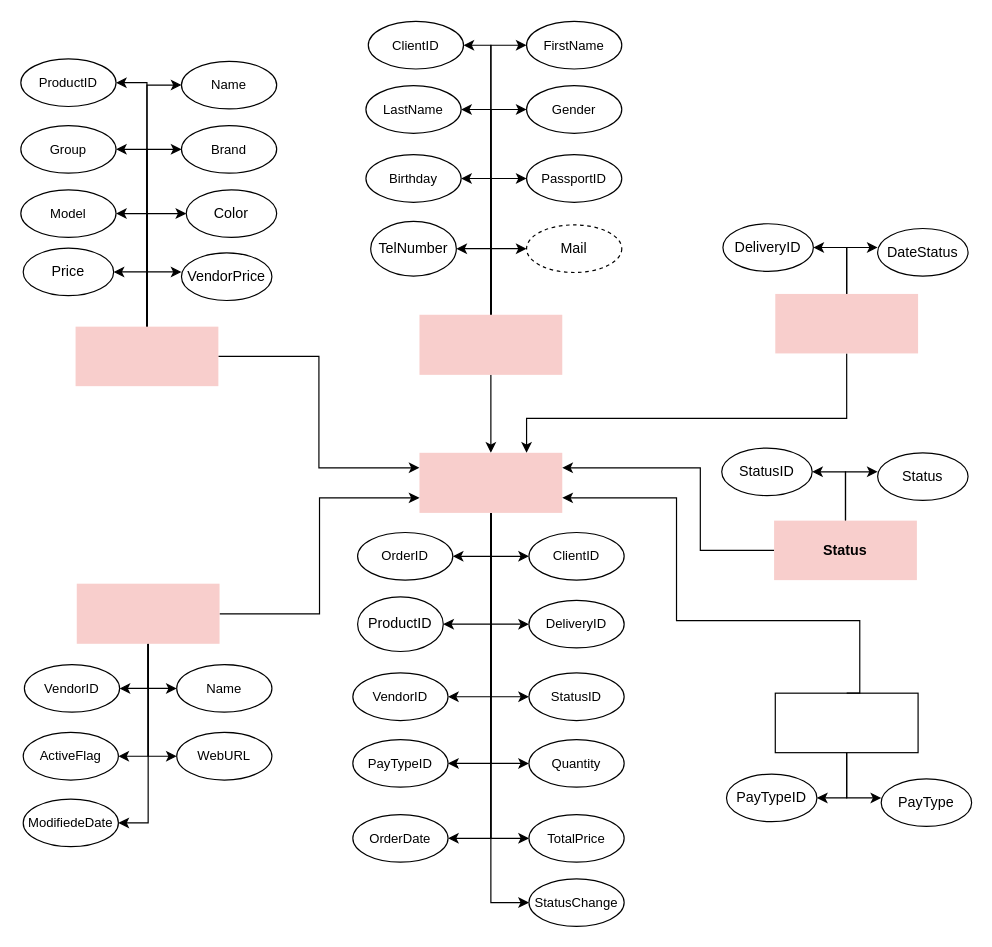
Some shapes in this 992 by 947 pixel diagram are drawn without their labels. Here are the shapes that lost their labels. From the top down, the centre of each, then its label:
point (846, 323): Delivery
point (146, 356): Product
point (490, 344): Client
point (490, 482): Order
point (147, 613): Vendor
point (846, 722): Pay
